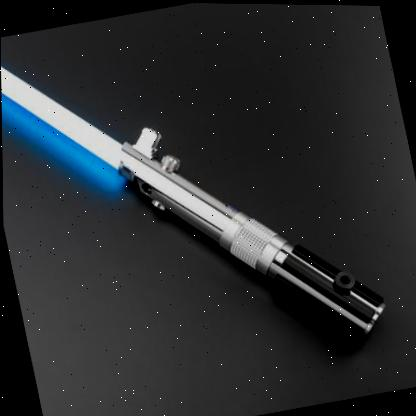lightsaber: (0, 0, 398, 411)
